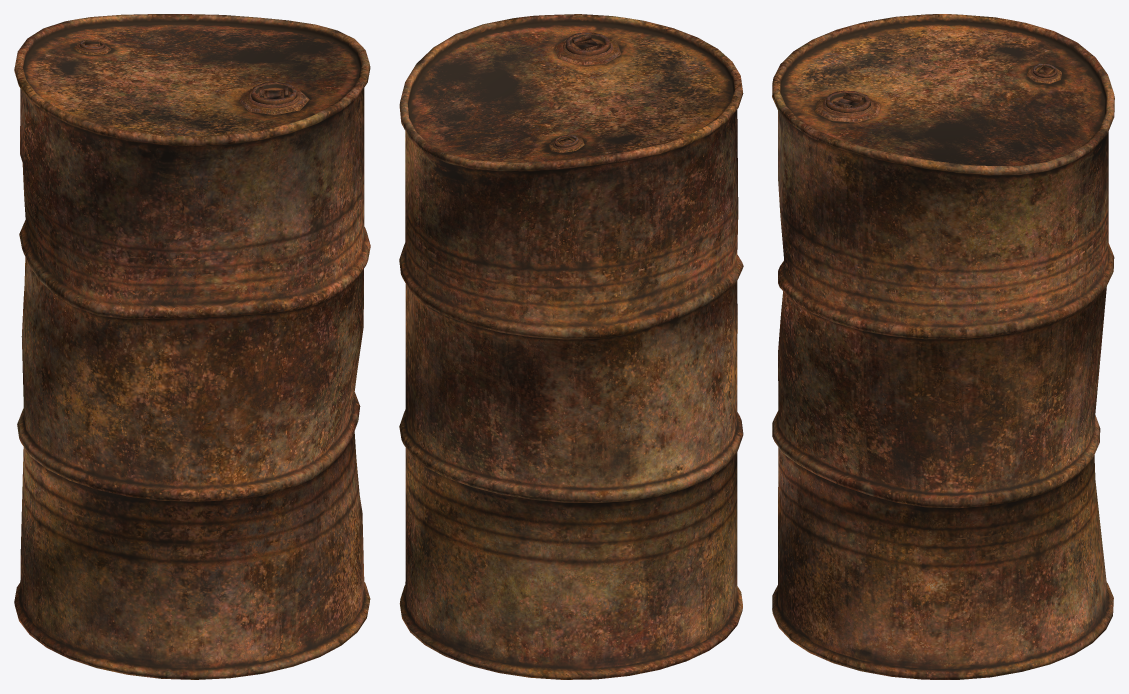
The model's file is ThungSatRi.fbx.
3 renders of one model, left to right at view 1: azimuth 30°, elevation 25°; view 2: azimuth 150°, elevation 25°; view 3: azimuth 270°, elevation 25°, orthographic. The views are drawn at different scales.
Visible parts, largest first — view 1: Barrel5_low.002; view 2: Barrel5_low.002; view 3: Barrel5_low.002.
Part boxes in pixels (box(x1,y1,x2,y2)): Barrel5_low.002: box(14, 14, 370, 679); Barrel5_low.002: box(399, 14, 743, 679); Barrel5_low.002: box(772, 14, 1114, 679).
Size of what is drawn, in the model's own units: 63.72 by 107 by 63.5.
